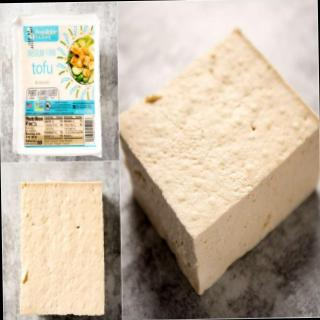Tahu: (115, 27, 320, 298), (17, 173, 113, 318)
